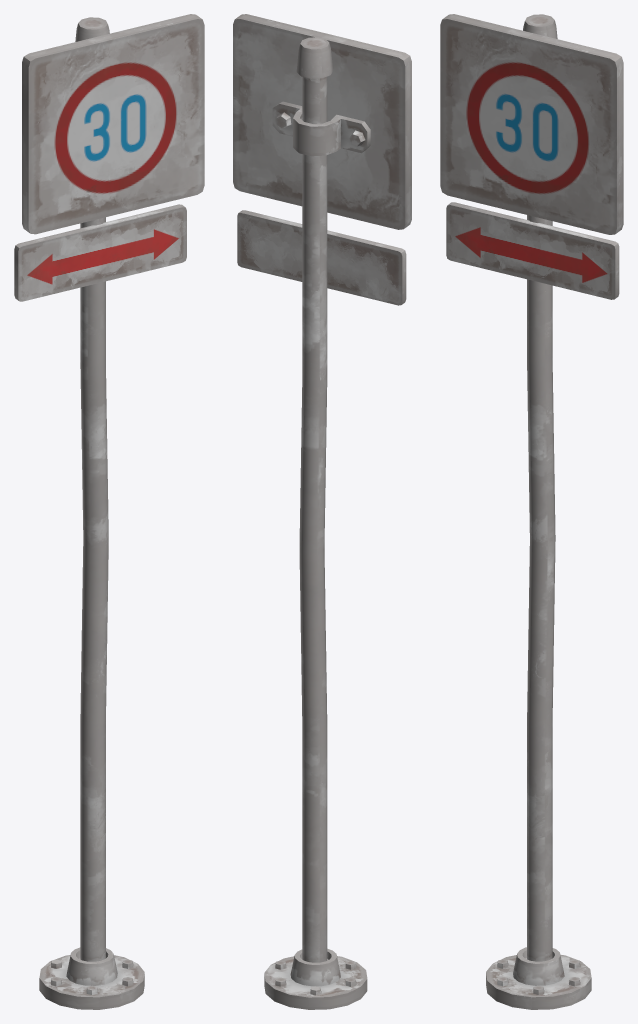
Rendered from SM_roadsign_06.fbx.
3 renders of one model, left to right at view 1: azimuth 30°, elevation 25°; view 2: azimuth 150°, elevation 25°; view 3: azimuth 330°, elevation 25°, orthographic. The views are drawn at different scales.
Parts seen in each view (by area): view 1: Object32304; view 2: Object32304; view 3: Object32304.
Boxes of the visible parts, x1,y1,x2,y2 form: Object32304: (14,14,204,1009); Object32304: (233,14,411,1009); Object32304: (440,14,623,1009).
Size of the model in its own units: 22.04 by 114 by 11.39.
